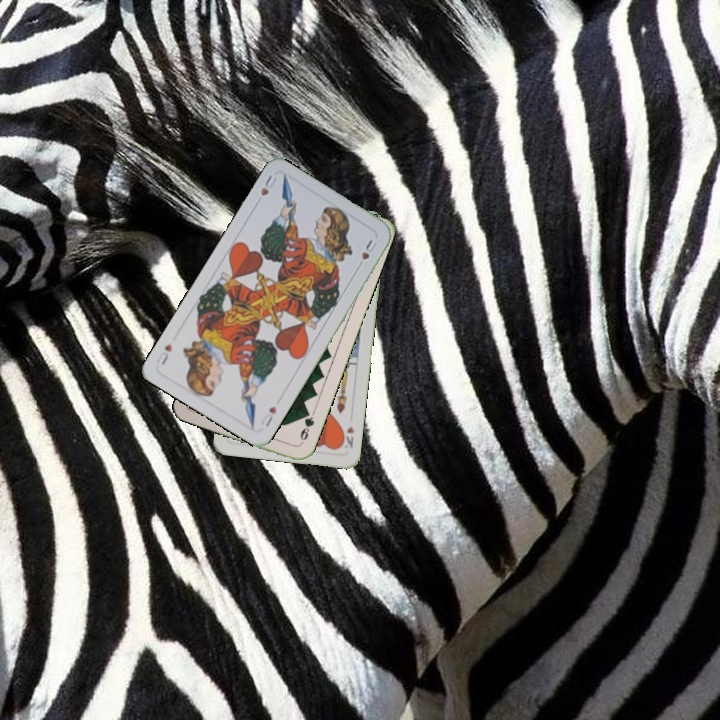G9: (296, 407, 317, 447)
HK: (337, 422, 357, 451)
HU: (257, 401, 279, 430), (257, 171, 279, 198)
